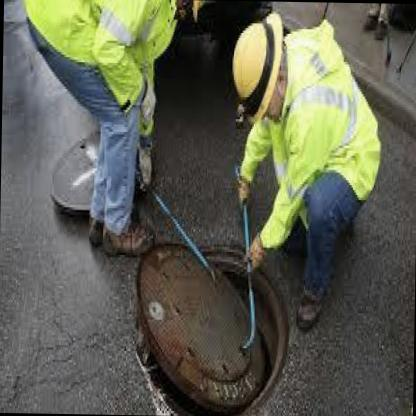manholes: (124, 198, 299, 416)
